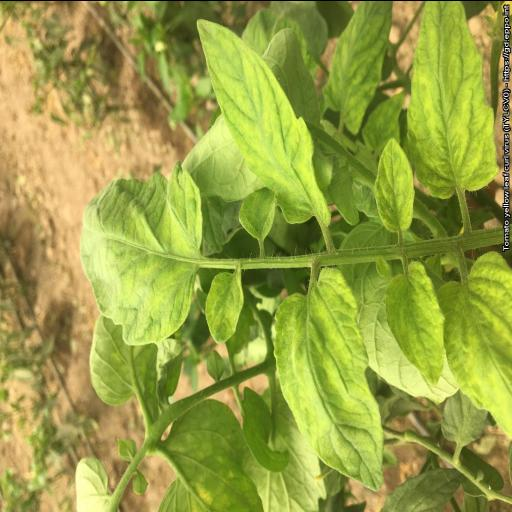Yellow Leaf Curl Virus: (197, 18, 332, 226), (78, 160, 208, 348), (272, 284, 388, 494), (403, 0, 498, 200), (437, 250, 512, 436), (321, 0, 394, 136), (384, 256, 444, 390), (374, 138, 414, 231), (204, 268, 244, 348)
